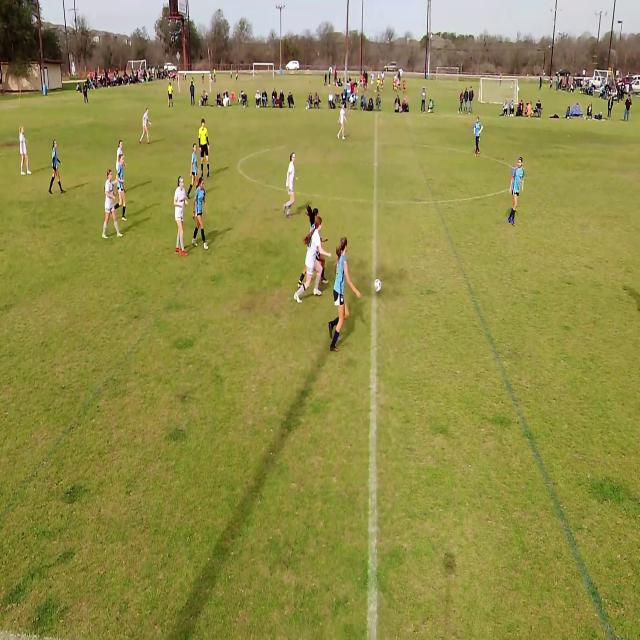ball: (373, 278, 385, 295)
team1: (310, 212, 335, 298), (335, 242, 355, 347), (193, 177, 208, 251), (49, 141, 66, 197), (509, 159, 524, 219), (114, 150, 126, 221), (188, 142, 198, 192), (473, 118, 481, 157), (168, 78, 175, 110)
team2: (295, 216, 328, 300), (173, 177, 190, 256), (102, 170, 120, 240), (283, 151, 297, 218), (117, 138, 129, 216), (20, 126, 32, 176), (139, 108, 151, 146), (339, 104, 348, 140)
